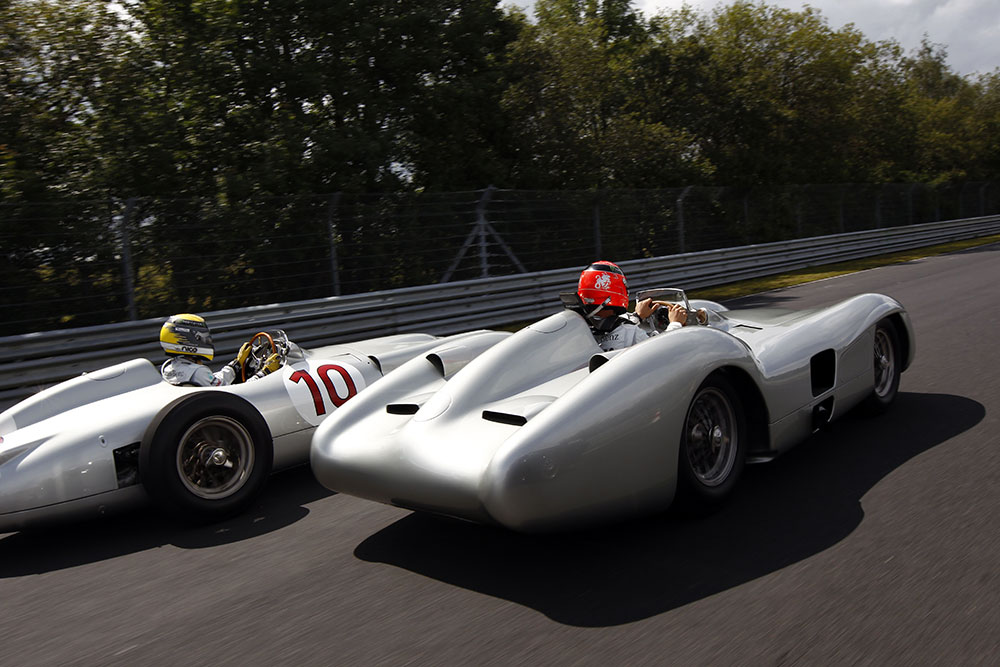f1_car: (2, 290, 546, 561)
helmet: (297, 234, 938, 550), (150, 305, 232, 365), (570, 252, 641, 314)
